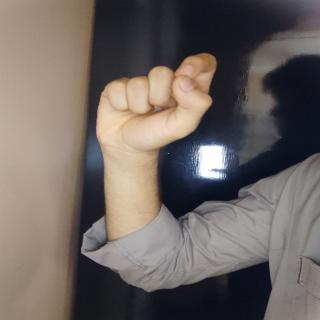FAA: (84, 50, 221, 171)
